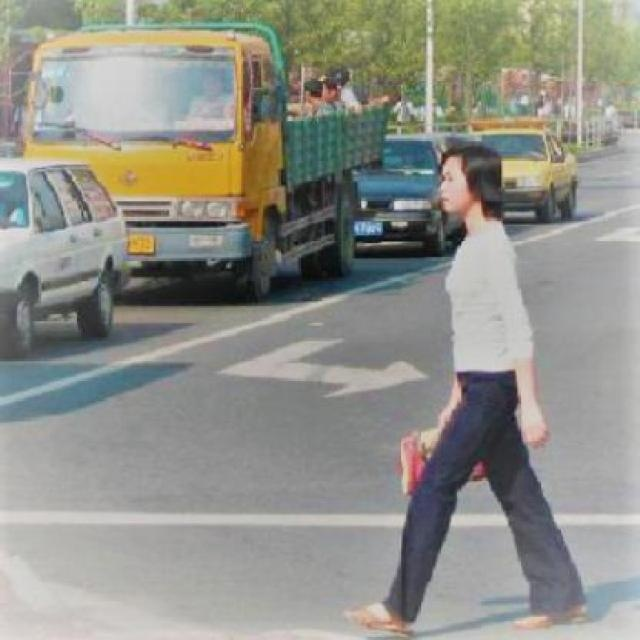obstacle: (346, 138, 592, 633)
